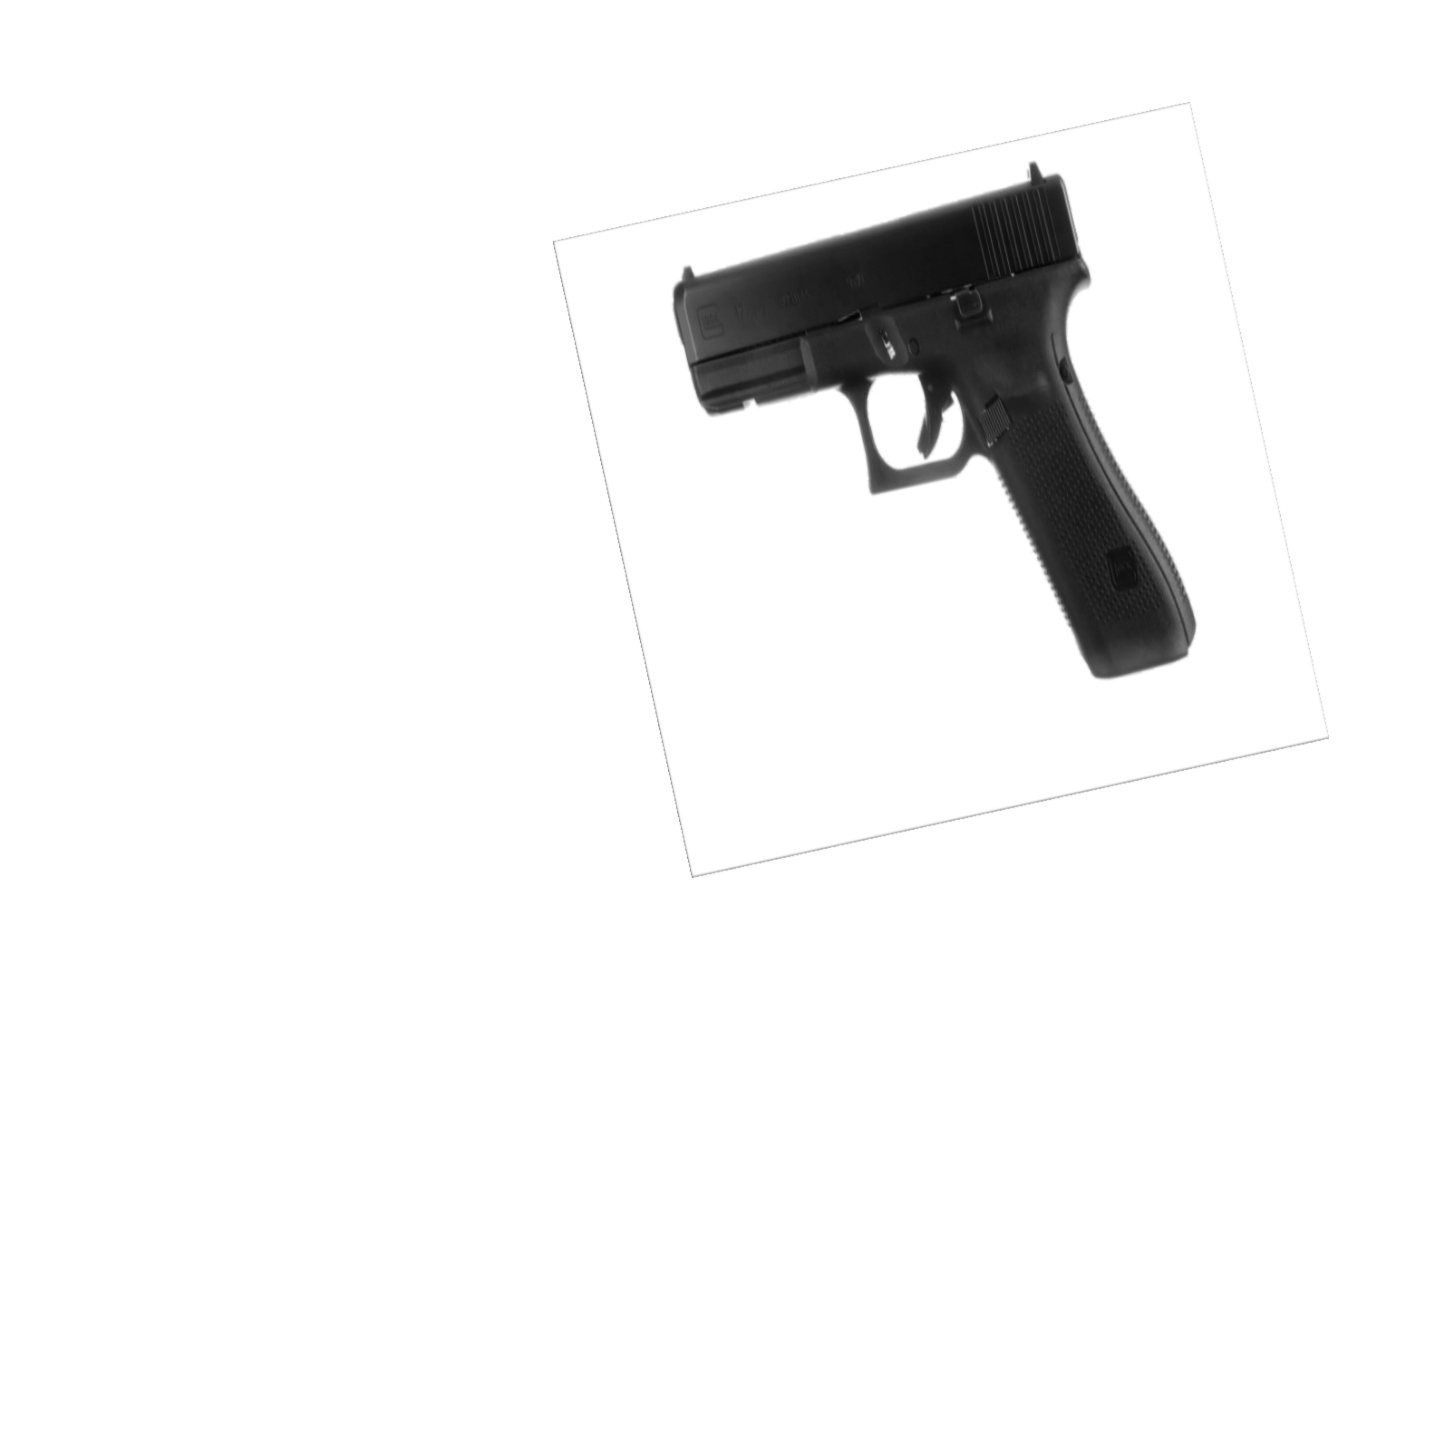gun: (672, 161, 1192, 681)
